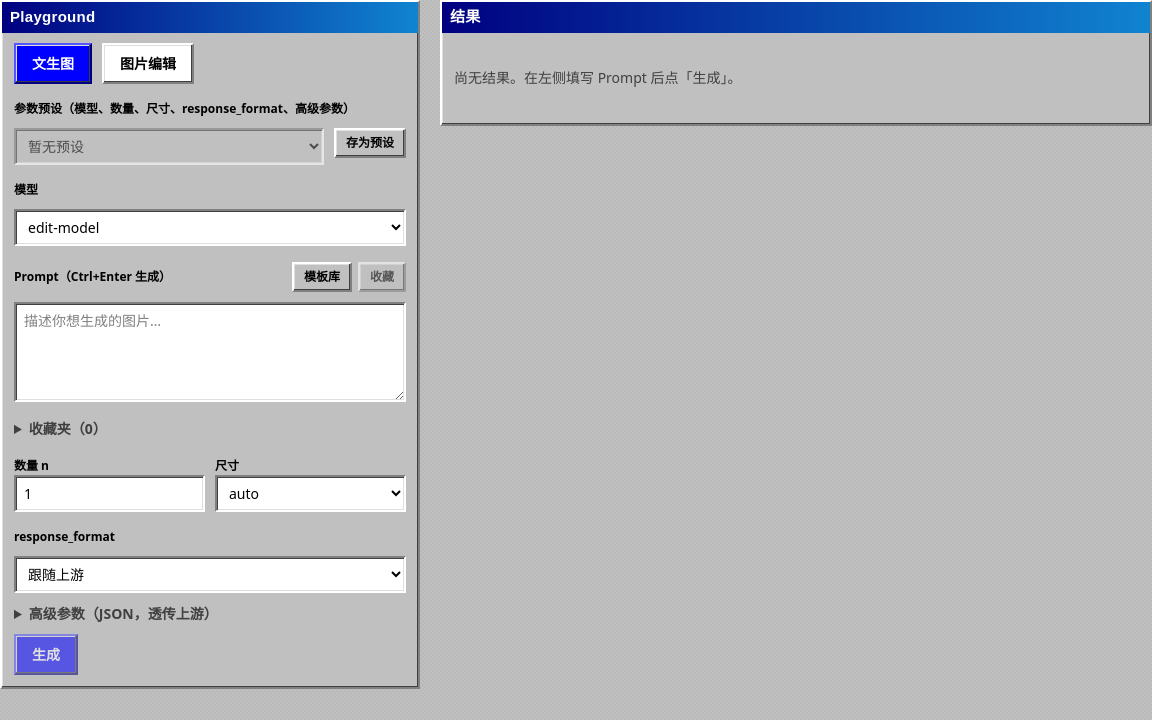
Scenario: Playground template library › switches back to generate mode when applying a text2image template from edit mode
The width and height of the screenshot is (1152, 720).
What coordinates should you click on to do the following:
click the button "图片编辑"
I would click on:
 (148, 63)
Its box is top-left (102, 42), bottom-right (194, 84).
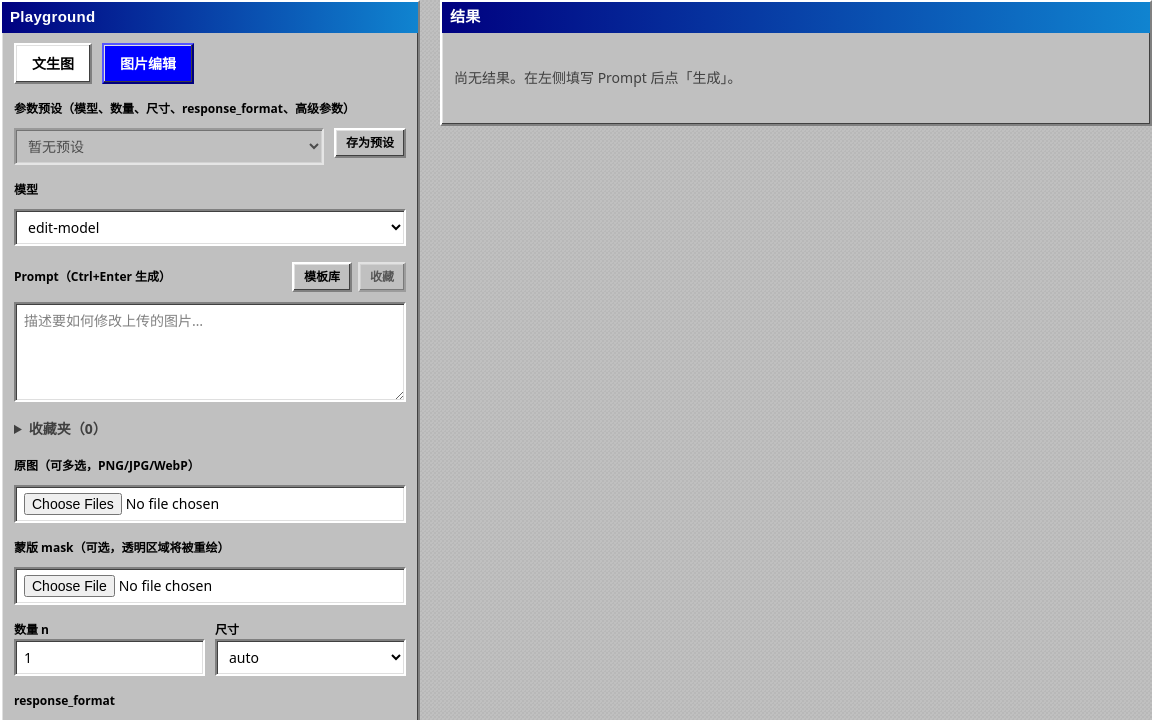
What coordinates should you click on to do the following:
click the button "模板库"
I would click on:
 (322, 276)
Its box is top-left (292, 262), bottom-right (352, 292).
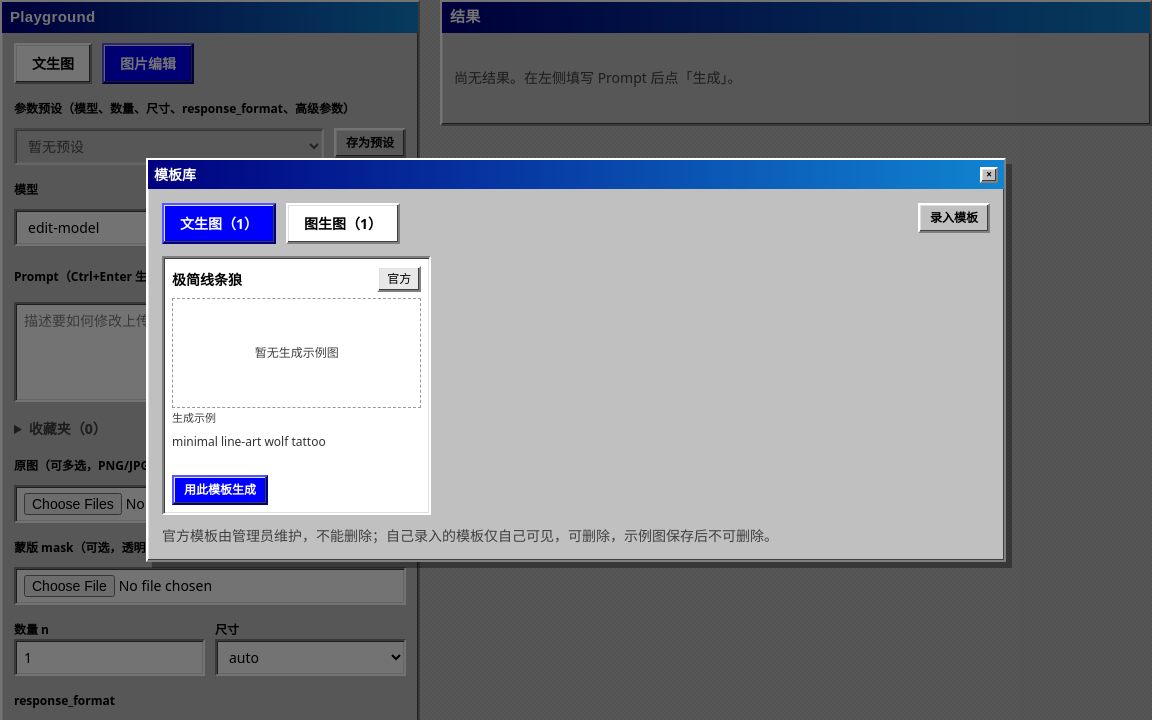
What coordinates should you click on to do the following:
click the button "用此模板生成"
I would click on:
 (220, 490)
Its box is top-left (172, 475), bottom-right (268, 505).
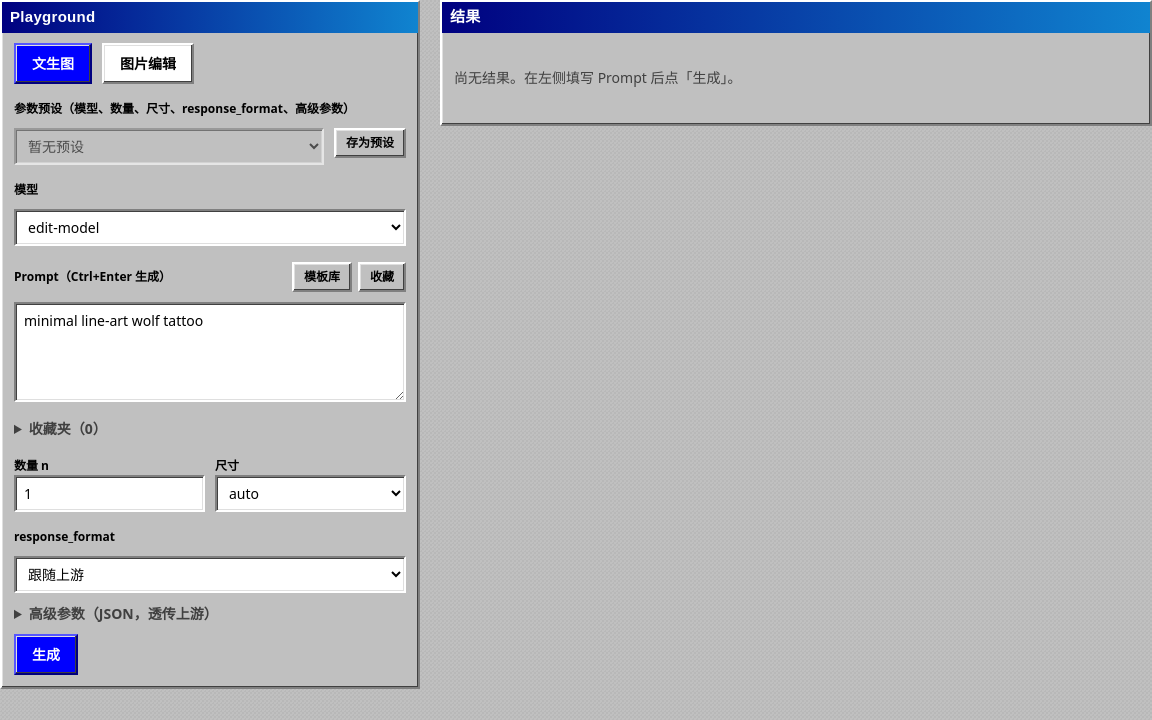
Now the text box labelled "Prompt（Ctrl+Enter 生成）" holds "minimal line-art wolf tattoo", box top-left (14, 302), bottom-right (406, 402)
